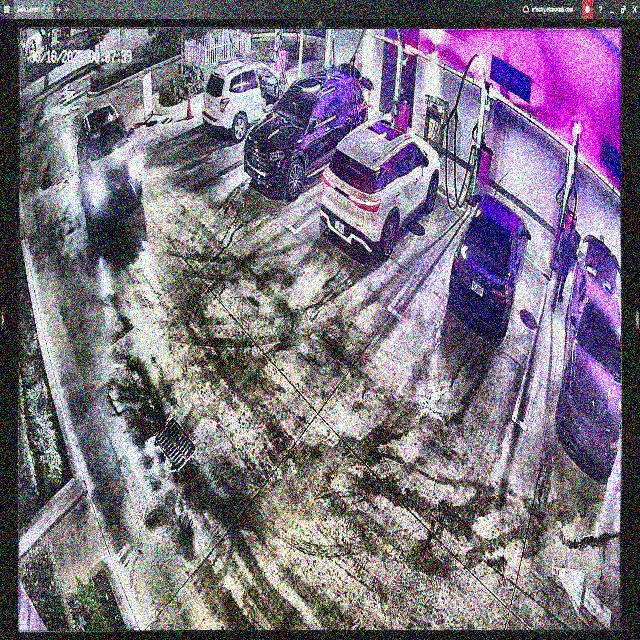Car: (320, 116, 440, 259), (245, 71, 365, 198), (451, 196, 530, 337), (77, 103, 142, 222)
